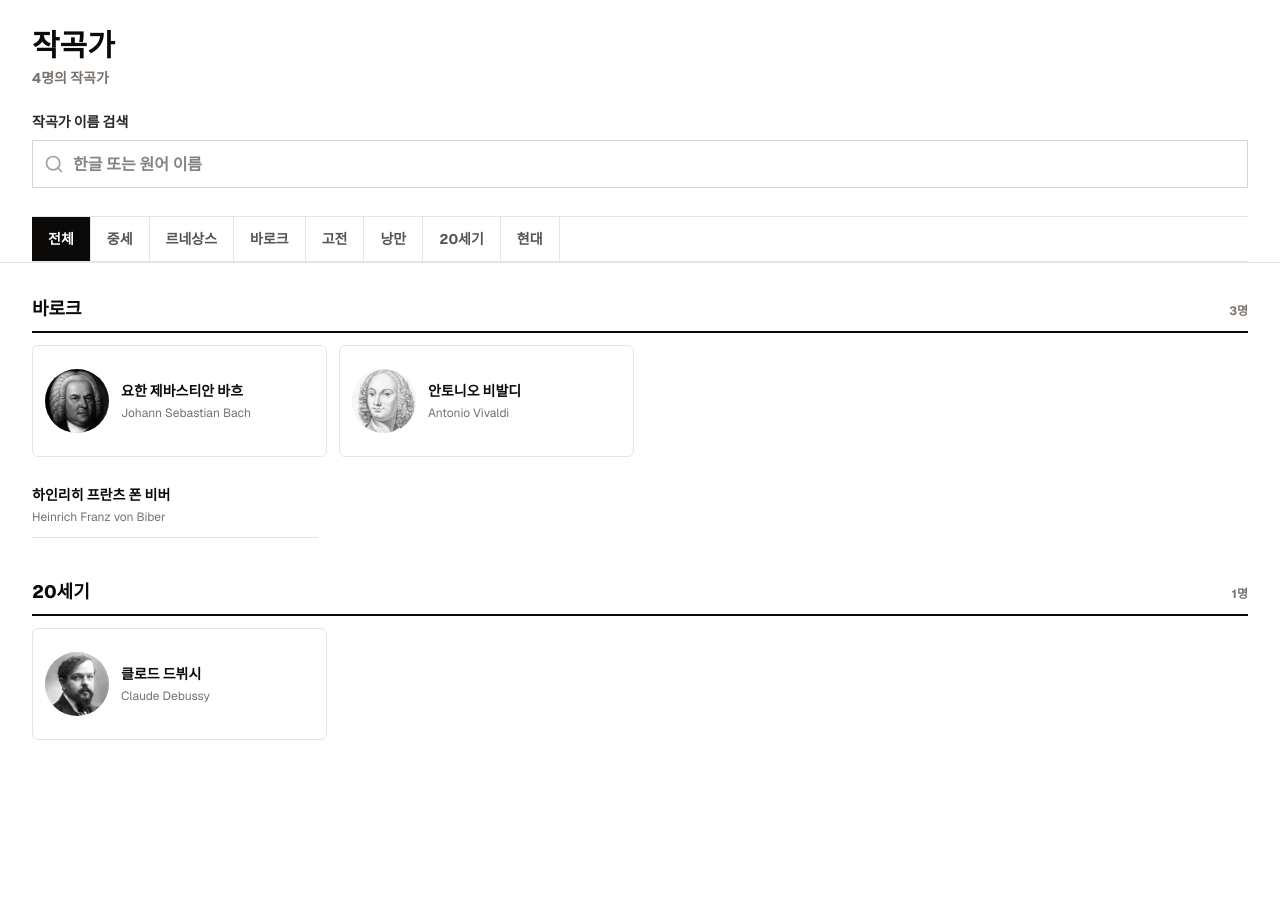
Test case: ComposerDirectory › shows an explicit no-results state
Type "없는 작곡가" into the search field labelled "작곡가 이름 검색" at (640, 164), box [32,140,1248,188]
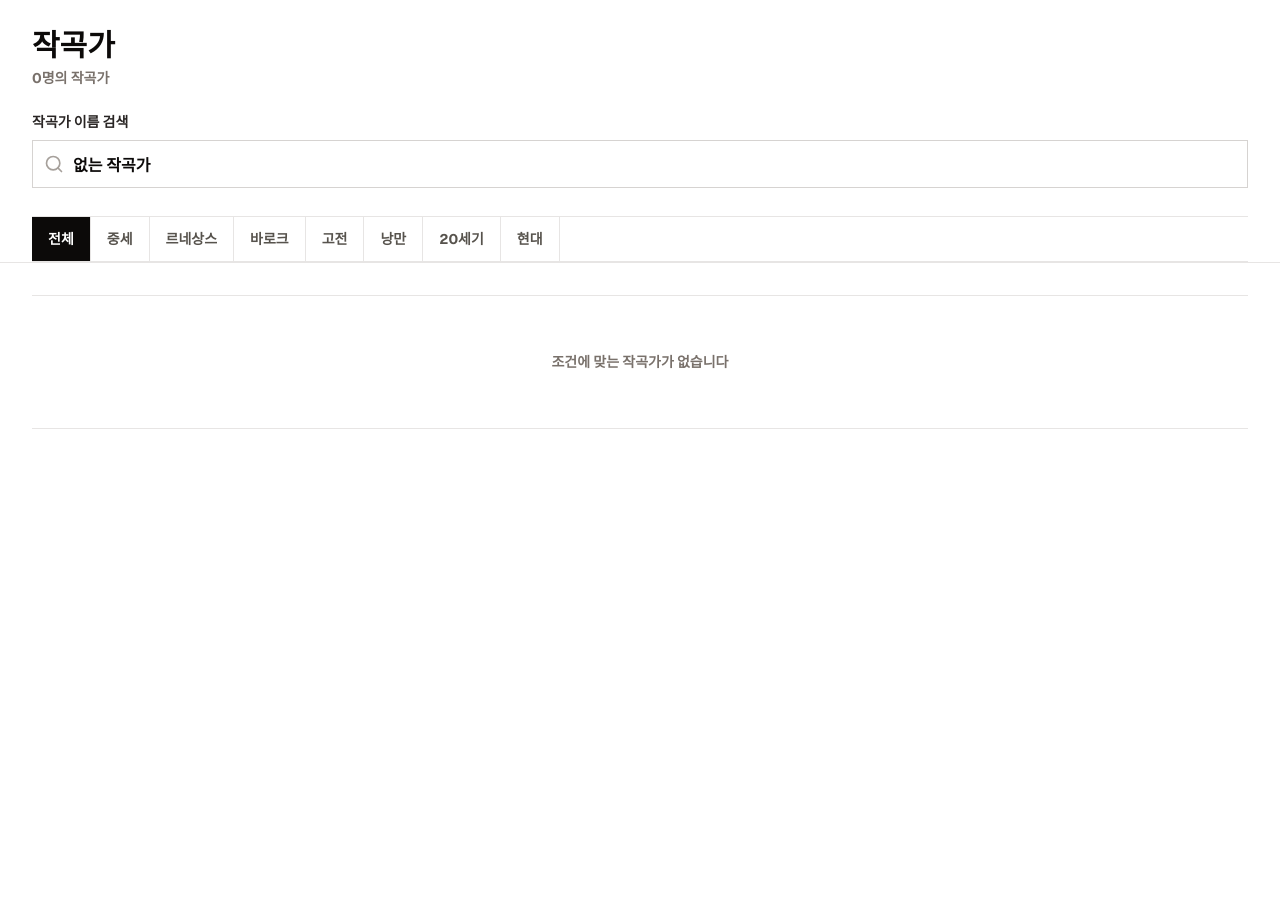
Result: the text "조건에 맞는 작곡가가 없습니다" is shown at [32,295,1248,429]
